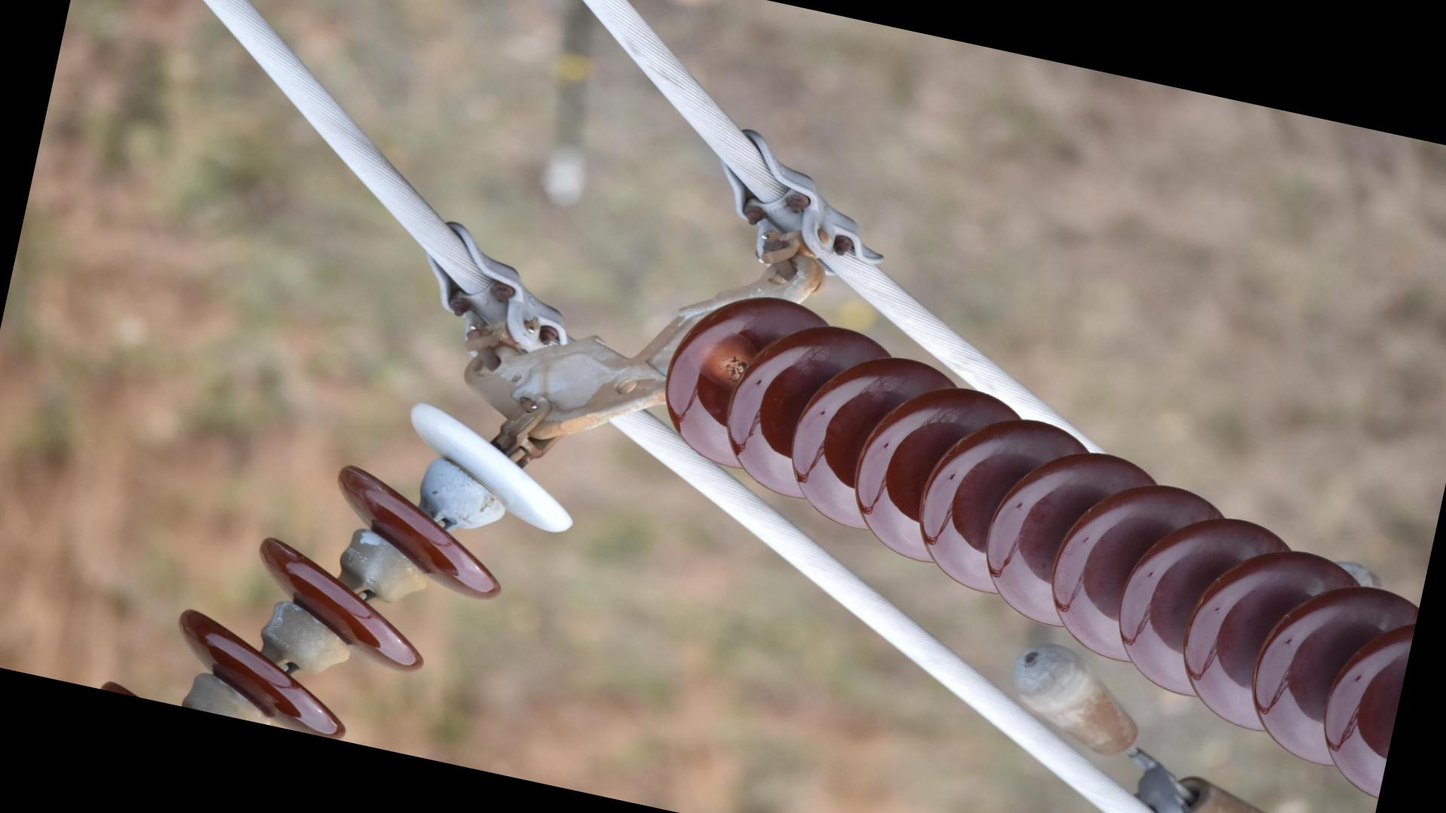damper: (966, 626, 1337, 813)
